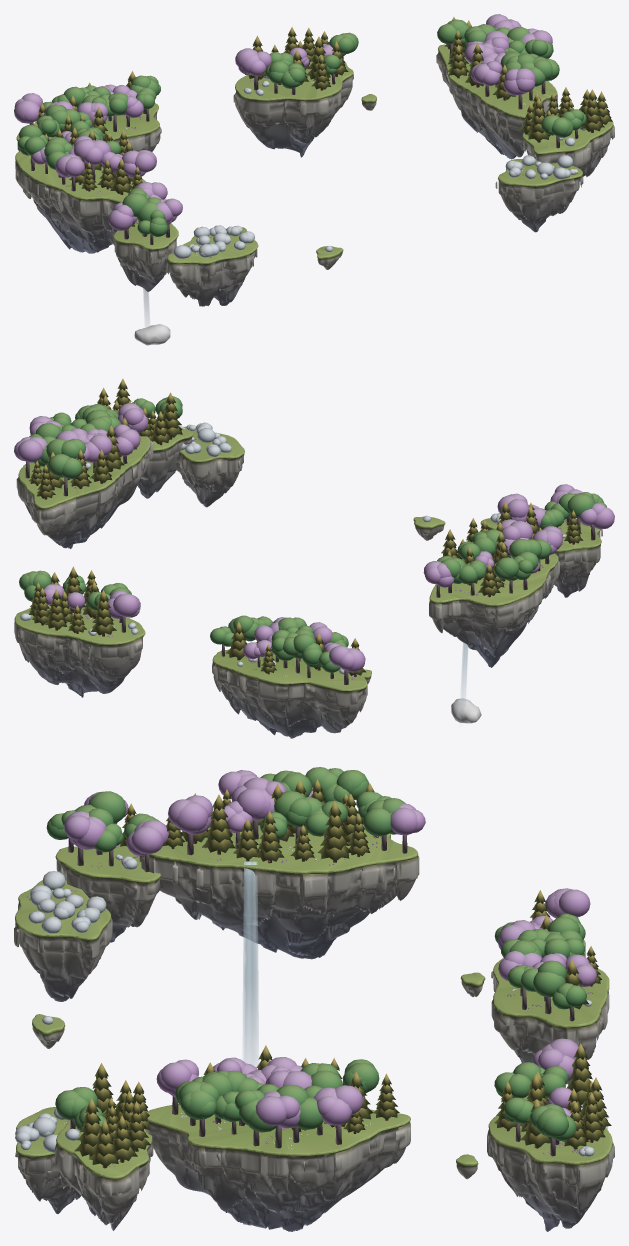
File: trident.glb
3 views of the same model, one above another, from view 1: azimuth 30°, elevation 25°; view 2: azimuth 150°, elevation 25°; view 3: azimuth 270°, elevation 25° (orthographic). The views are drawn at different scales.
Parts seen in each view (by area): view 1: decor_leaves, decor_m01, decor_m06, decor_m07, decor_m03, decor_m04, decor_m04.001, decor_m03.001, decor_m00, decor_trunks, clouds; view 2: decor_leaves, decor_m00, decor_m01, decor_m06, decor_m07, decor_m04, decor_m04.001, decor_m03.001, decor_trunks, clouds, decor_s00; view 3: decor_leaves, decor_m06, decor_m07, decor_m01, decor_m00, decor_m03, decor_m04.001, decor_m03.001, waterfall, decor_m04, decor_trunks, decor_s00.
Boxes of the visible parts, box(x1,y1,x2,y2) form: decor_leaves: box(14, 14, 612, 258); decor_m01: box(233, 61, 353, 157); decor_m06: box(15, 136, 145, 253); decor_m07: box(436, 44, 557, 159); decor_m03: box(166, 227, 258, 306); decor_m04: box(495, 159, 583, 232); decor_m04.001: box(113, 219, 178, 291); decor_m03.001: box(522, 121, 614, 181); decor_m00: box(16, 103, 161, 151); decor_trunks: box(29, 44, 602, 244); clouds: box(134, 324, 170, 345); decor_leaves: box(14, 378, 614, 675); decor_m00: box(212, 642, 367, 738); decor_m01: box(14, 604, 145, 697); decor_m06: box(429, 553, 559, 667); decor_m07: box(16, 436, 153, 548); decor_m04: box(176, 426, 244, 507); decor_m04.001: box(554, 521, 602, 597); decor_m03.001: box(137, 427, 193, 498); decor_trunks: box(25, 435, 595, 684); clouds: box(451, 698, 481, 723); decor_s00: box(413, 516, 445, 540); decor_leaves: box(15, 767, 611, 1166); decor_m06: box(141, 813, 419, 959); decor_m07: box(145, 1104, 410, 1231); decor_m01: box(487, 1088, 614, 1231); decor_m00: box(491, 939, 609, 1084); decor_m03: box(14, 880, 112, 1001); decor_m04.001: box(55, 844, 160, 942); decor_m03.001: box(55, 1120, 153, 1230); waterfall: box(242, 861, 258, 1068); decor_m04: box(15, 1107, 80, 1213); decor_trunks: box(68, 820, 593, 1168); decor_s00: box(32, 1014, 65, 1048).
Size of the model in its own units: 36.19 by 15.03 by 26.49.
